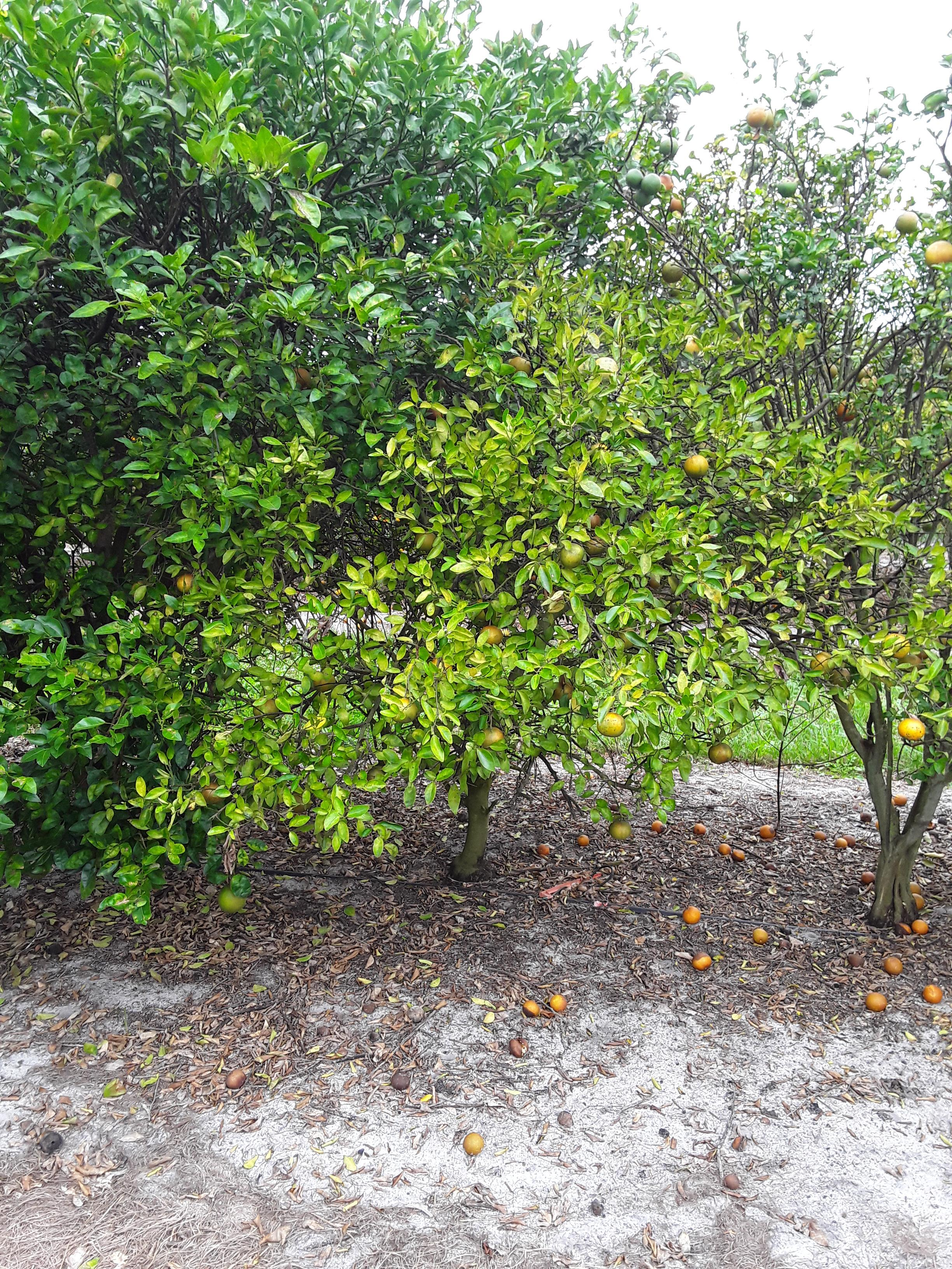fruit_on_ground: (215, 880, 250, 915), (387, 691, 421, 723), (199, 777, 231, 808), (922, 238, 952, 268), (286, 363, 317, 392), (598, 710, 628, 739), (555, 541, 586, 569), (306, 665, 338, 692), (897, 714, 926, 743), (173, 568, 203, 596), (540, 589, 570, 616), (505, 353, 535, 380), (884, 630, 912, 658), (251, 694, 281, 720), (682, 452, 712, 478), (807, 648, 835, 675), (658, 257, 686, 284), (894, 209, 922, 236), (478, 725, 507, 751), (477, 622, 506, 648), (285, 788, 313, 814), (412, 527, 440, 553), (550, 677, 578, 703), (744, 103, 772, 129), (774, 172, 801, 198), (705, 740, 733, 765), (181, 788, 207, 814), (615, 625, 641, 651), (832, 397, 859, 422), (756, 106, 782, 131), (855, 365, 880, 390), (795, 86, 821, 110), (828, 664, 854, 688), (607, 818, 633, 842), (906, 647, 930, 671), (639, 171, 663, 195), (623, 166, 646, 189), (584, 535, 608, 557), (680, 335, 703, 357), (653, 172, 676, 194), (821, 358, 842, 379), (656, 135, 677, 156), (785, 254, 806, 274), (875, 159, 895, 180), (583, 510, 604, 530), (424, 404, 446, 423), (666, 195, 688, 214)
fruit_on_tree: (461, 1131, 486, 1158), (40, 1130, 65, 1156), (864, 989, 888, 1013), (224, 1068, 248, 1091), (508, 1036, 530, 1060), (921, 982, 944, 1004), (390, 1070, 412, 1092), (691, 949, 713, 971), (882, 954, 905, 975), (548, 991, 569, 1014), (520, 996, 542, 1017), (681, 904, 702, 925), (43, 939, 66, 957), (751, 925, 770, 945), (723, 1171, 742, 1190), (893, 920, 913, 938), (910, 917, 930, 935), (845, 951, 866, 968), (557, 1110, 574, 1128), (859, 868, 877, 884), (758, 823, 776, 839), (330, 583, 346, 600), (574, 832, 590, 848), (692, 820, 708, 836), (912, 894, 928, 909), (908, 881, 924, 896), (536, 841, 552, 856), (731, 847, 747, 862), (891, 792, 908, 806), (717, 841, 732, 855), (840, 833, 856, 846), (812, 828, 828, 841), (649, 819, 663, 833), (761, 861, 778, 872), (859, 810, 873, 823), (608, 801, 623, 813), (872, 818, 885, 831), (834, 836, 848, 848), (581, 771, 595, 781), (352, 621, 364, 632), (357, 615, 369, 624), (340, 615, 350, 625), (374, 617, 384, 626)
